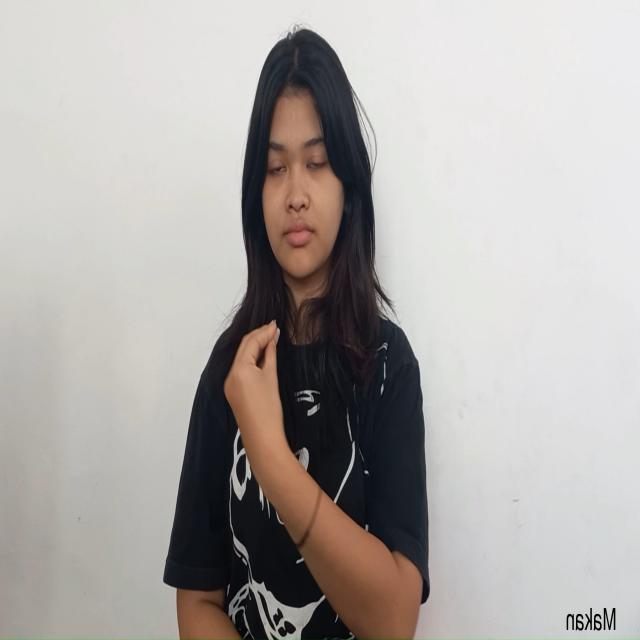Makan -BISINDO-: (224, 318, 292, 498)
